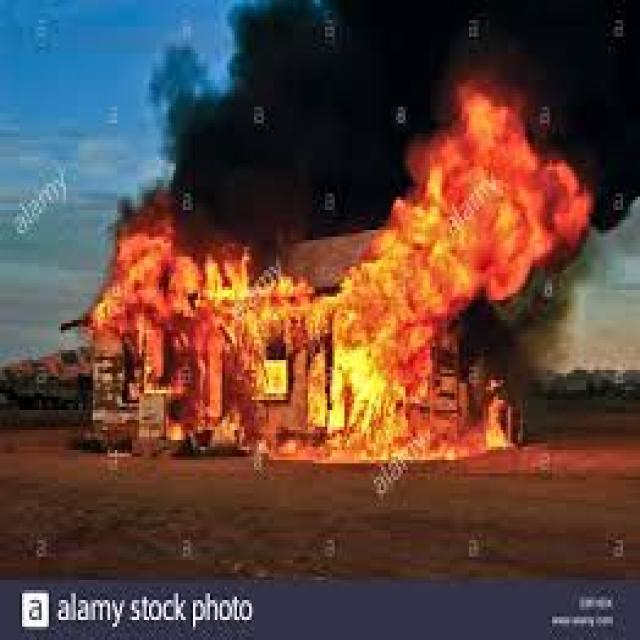Fire: (93, 93, 587, 464)
Smoke: (115, 0, 640, 380)
